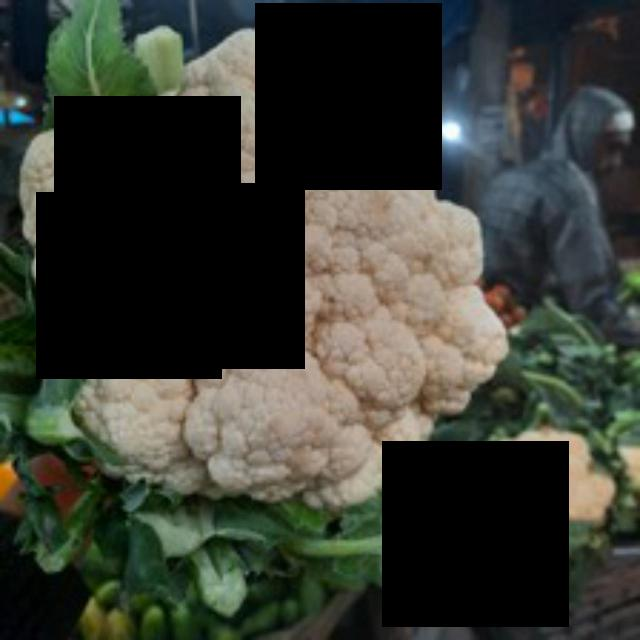cauliflower: (23, 23, 516, 534)
